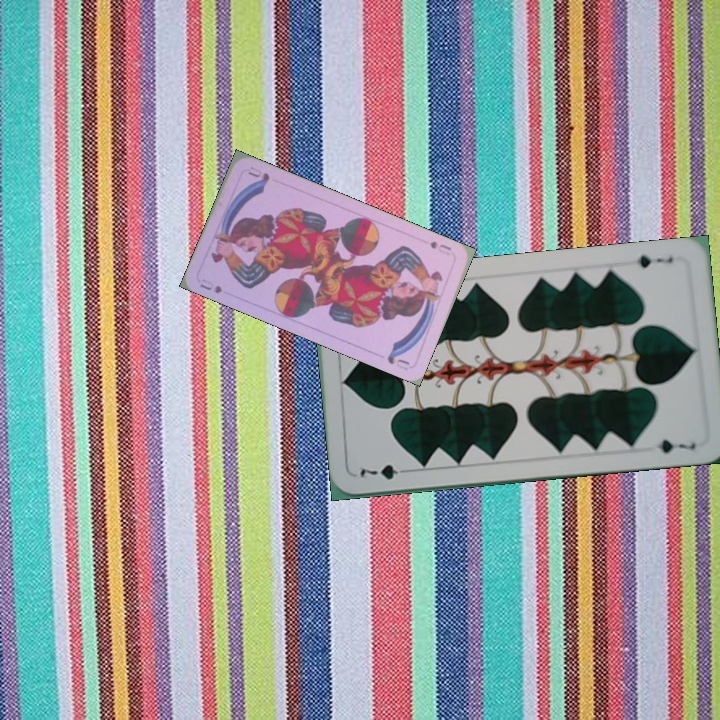G7: (356, 460, 413, 483), (625, 251, 676, 270)
SU: (196, 274, 225, 296), (425, 237, 454, 258)
